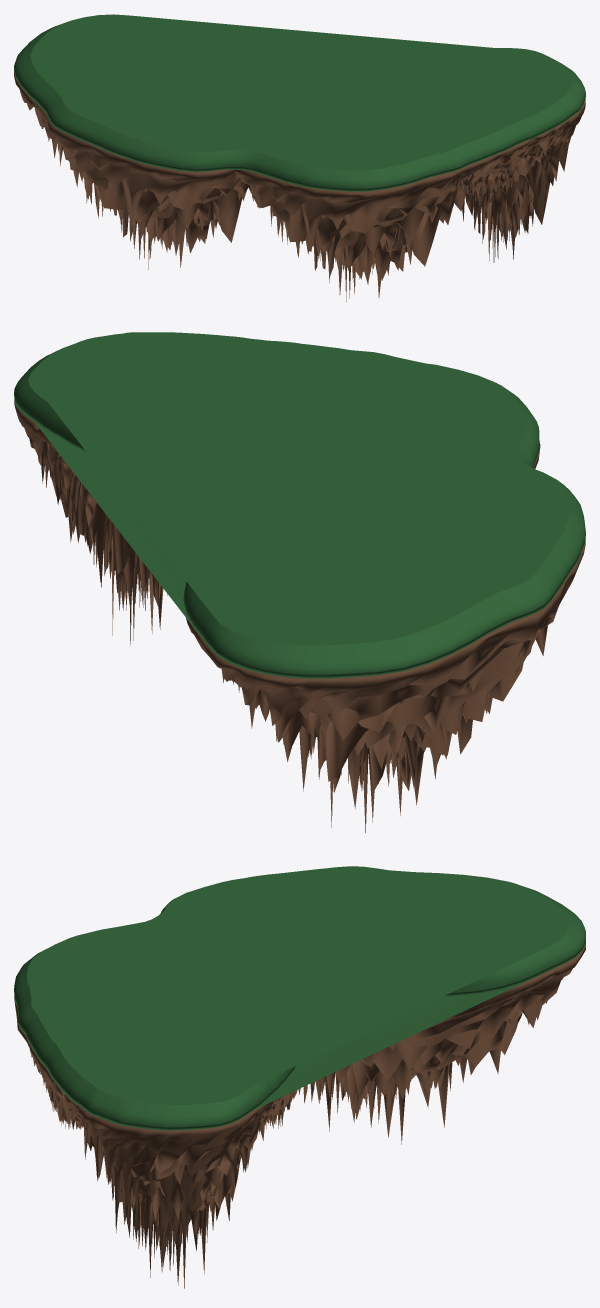
File: 튜토리얼 지형.fbx
3 renders of one model, top to bottom at view 1: azimuth 30°, elevation 25°; view 2: azimuth 150°, elevation 25°; view 3: azimuth 270°, elevation 25°, orthographic. The views are drawn at different scales.
Parts seen in each view (by area): view 1: Floating_Island__3_.001, Floating_Island__3_.002; view 2: Floating_Island__3_.001, Floating_Island__3_.002; view 3: Floating_Island__3_.001, Floating_Island__3_.002.
Part boxes in pixels (x1,y1,x2,y2): Floating_Island__3_.001: (14,14,585,191); Floating_Island__3_.002: (14,70,585,302); Floating_Island__3_.001: (14,332,585,678); Floating_Island__3_.002: (14,400,585,832); Floating_Island__3_.001: (14,866,585,1130); Floating_Island__3_.002: (14,944,585,1288).
Size of the model in its own units: 18688 by 7753 by 17900.
